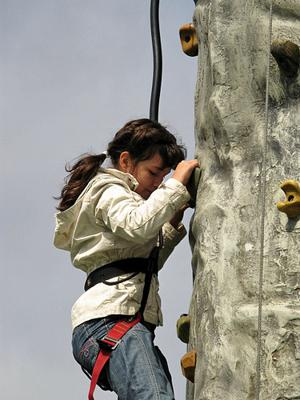person: (54, 117, 200, 400)
